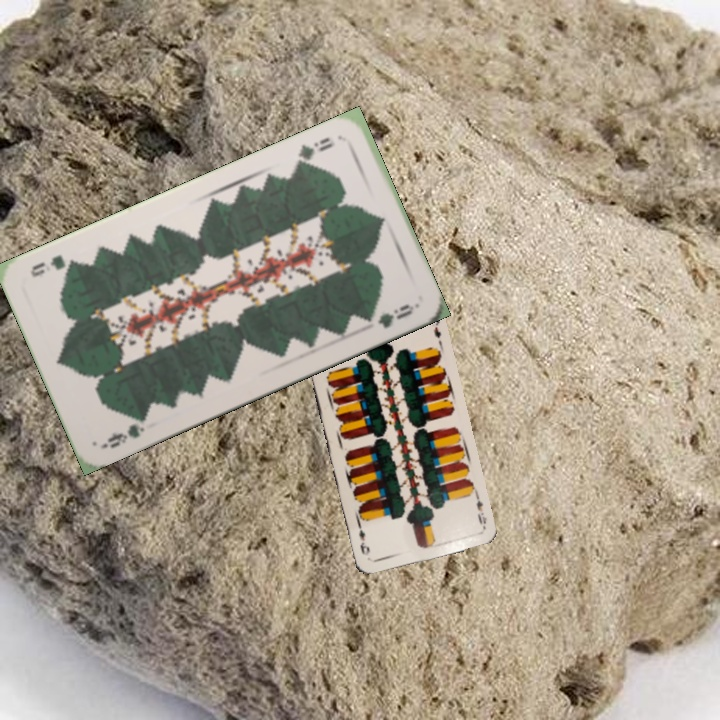E9: (472, 491, 489, 531)
G9: (292, 133, 336, 170), (103, 419, 147, 451)
